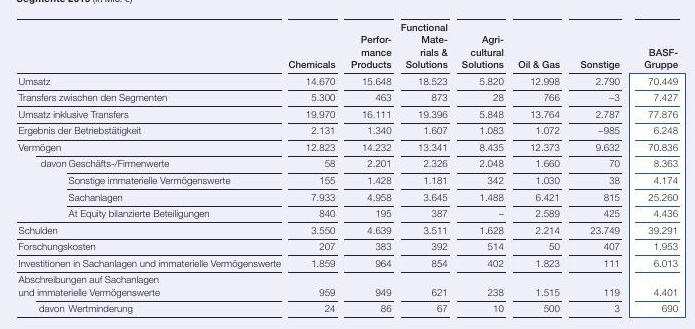table: (0, 0, 695, 329)
